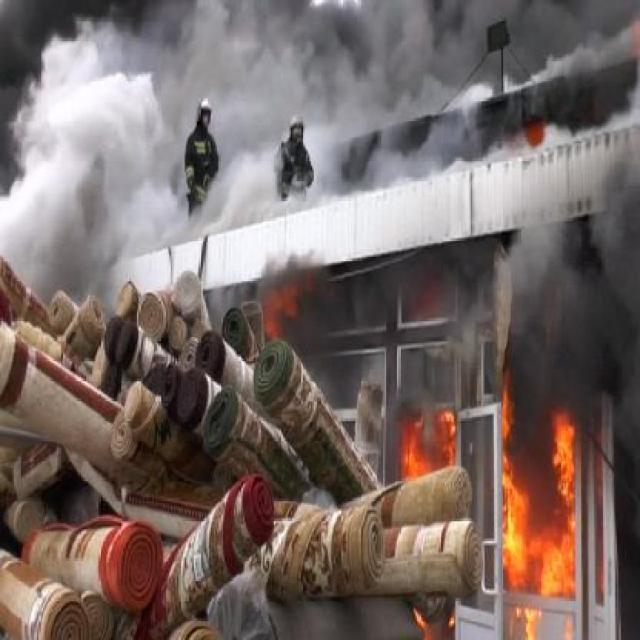Fire: (494, 380, 578, 594), (402, 414, 433, 476), (267, 276, 298, 322), (442, 407, 458, 470), (516, 602, 542, 638), (524, 125, 546, 146), (411, 604, 427, 632), (264, 322, 278, 338), (564, 618, 572, 640), (448, 610, 456, 630)
